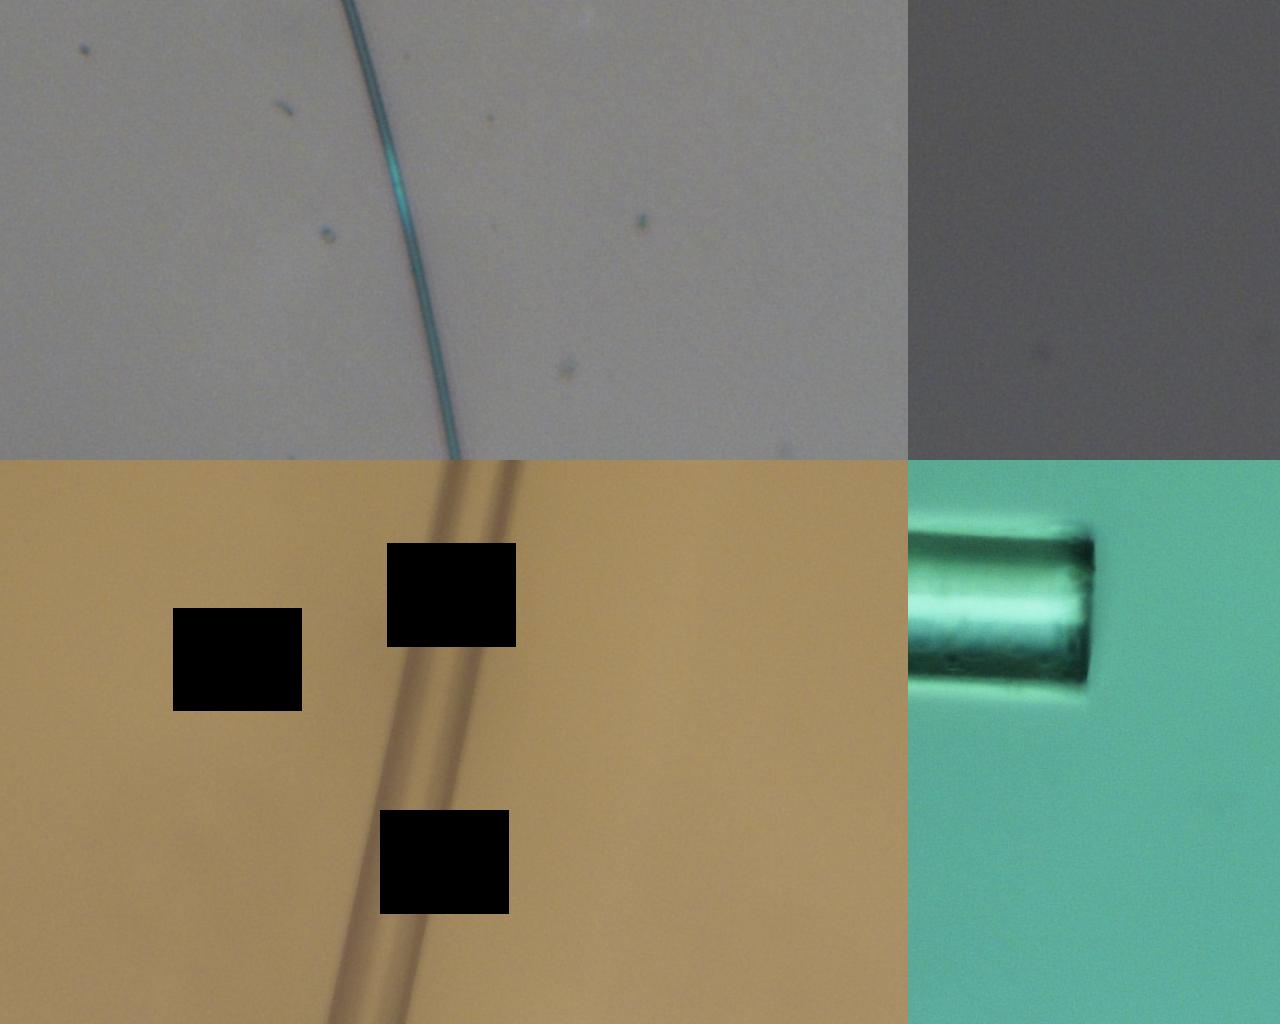fiber: (400, 0, 992, 1024)
